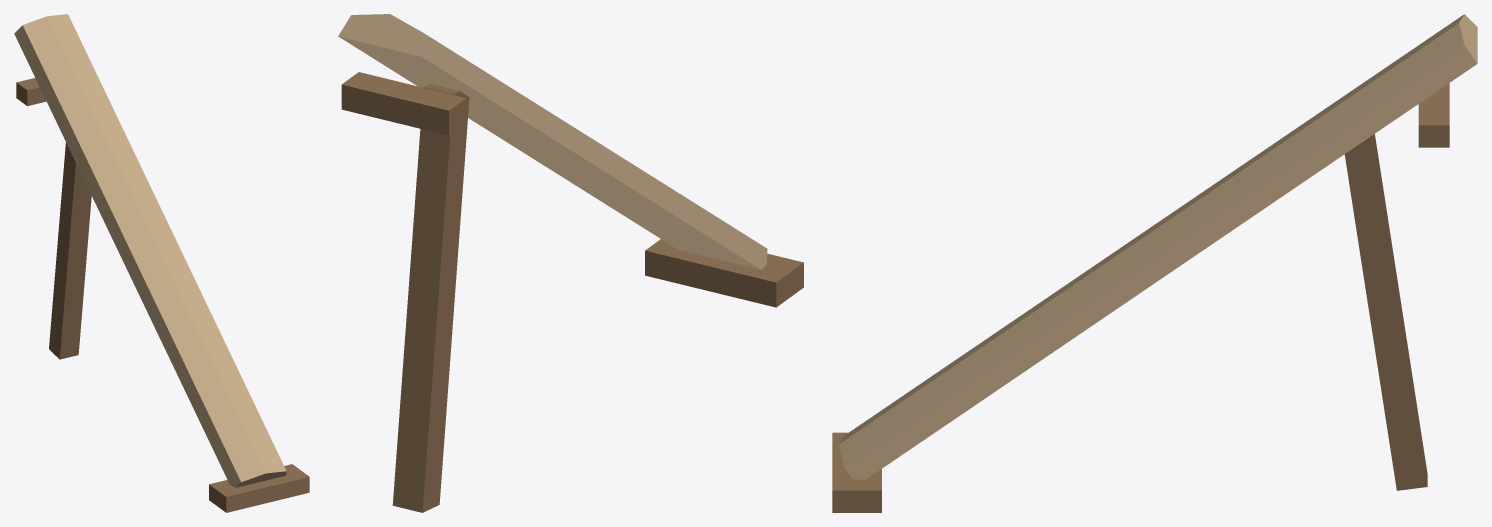
Rendered from prop-fleshing-beam.fbx.
The picture shows the model from 3 angles, left to right: view 1: azimuth 30°, elevation 25°; view 2: azimuth 150°, elevation 25°; view 3: azimuth 270°, elevation 25°; orthographic projection. The views are drawn at different scales.
Visible parts, largest first — view 1: prop-fleshing-beam; view 2: prop-fleshing-beam; view 3: prop-fleshing-beam.
Part boxes in pixels (<box>): prop-fleshing-beam: <box>14,14,309,512</box>; prop-fleshing-beam: <box>338,14,803,512</box>; prop-fleshing-beam: <box>832,14,1477,512</box>.
Bounding box in the file's own units: 22 × 82.04 × 104.
